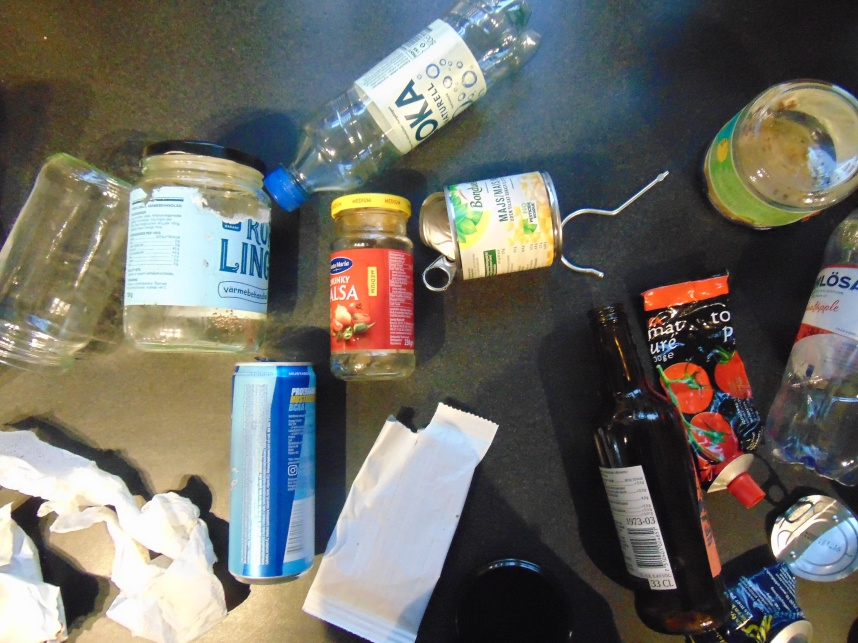glass_bottle: (594, 305, 731, 634), (121, 140, 269, 353), (4, 153, 129, 375), (698, 74, 858, 232), (327, 191, 417, 380)
metal: (645, 276, 761, 497), (553, 166, 673, 281), (475, 559, 575, 643), (769, 494, 858, 587), (721, 562, 817, 643)
metal_can: (221, 359, 317, 585), (428, 170, 562, 273)
plastic_bottle: (269, 1, 546, 207), (763, 203, 858, 484)
